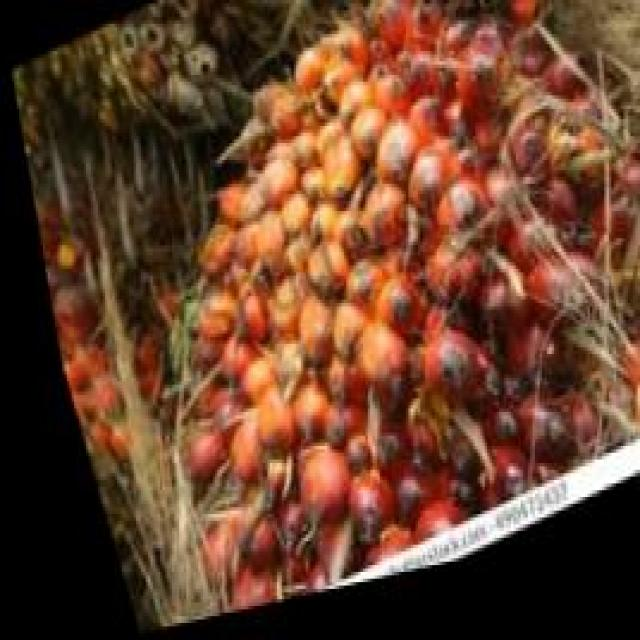Ripefruit: (45, 0, 640, 633)
